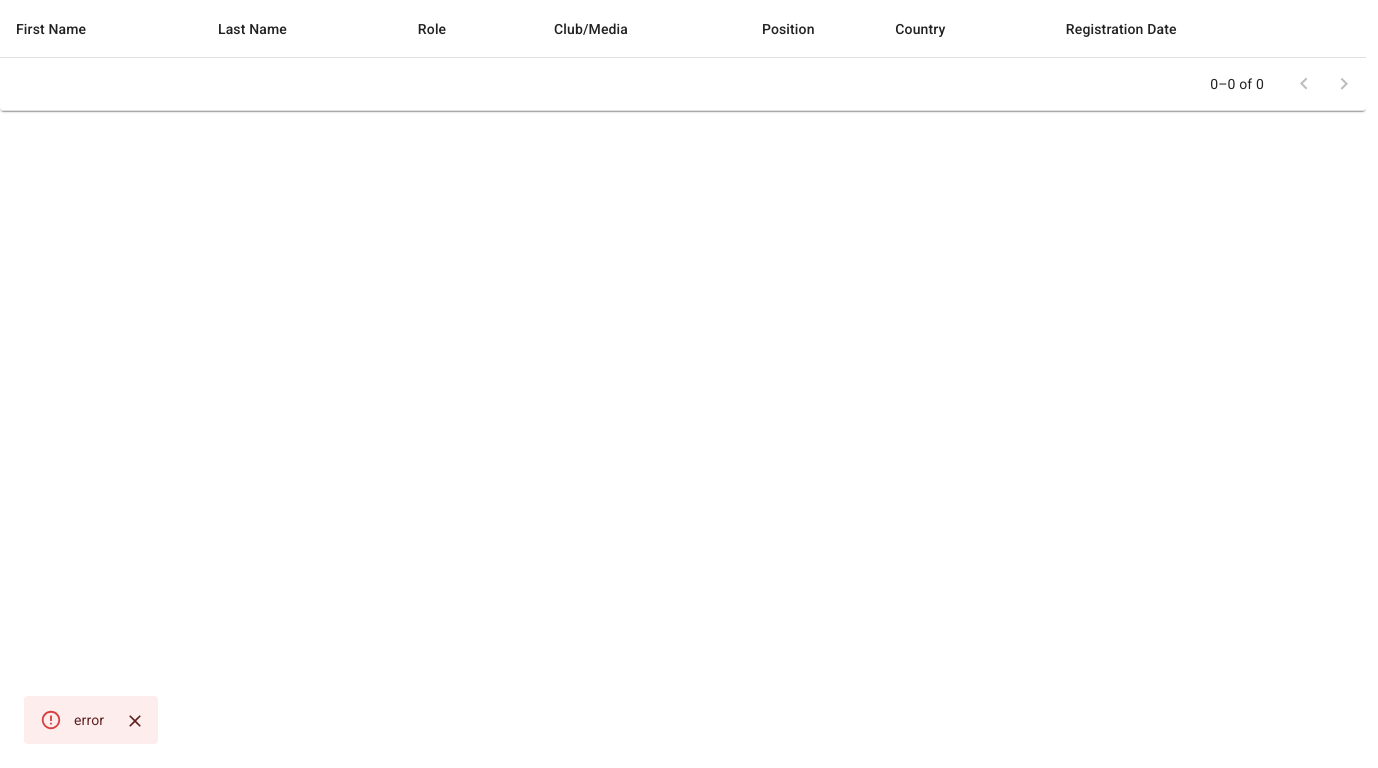
Scenario: UsersTable tests: error response › should close the error snackbar after clicking on the close button
Click the button with test id "CloseIcon": coordinates (135, 721) [120,706,150,736]
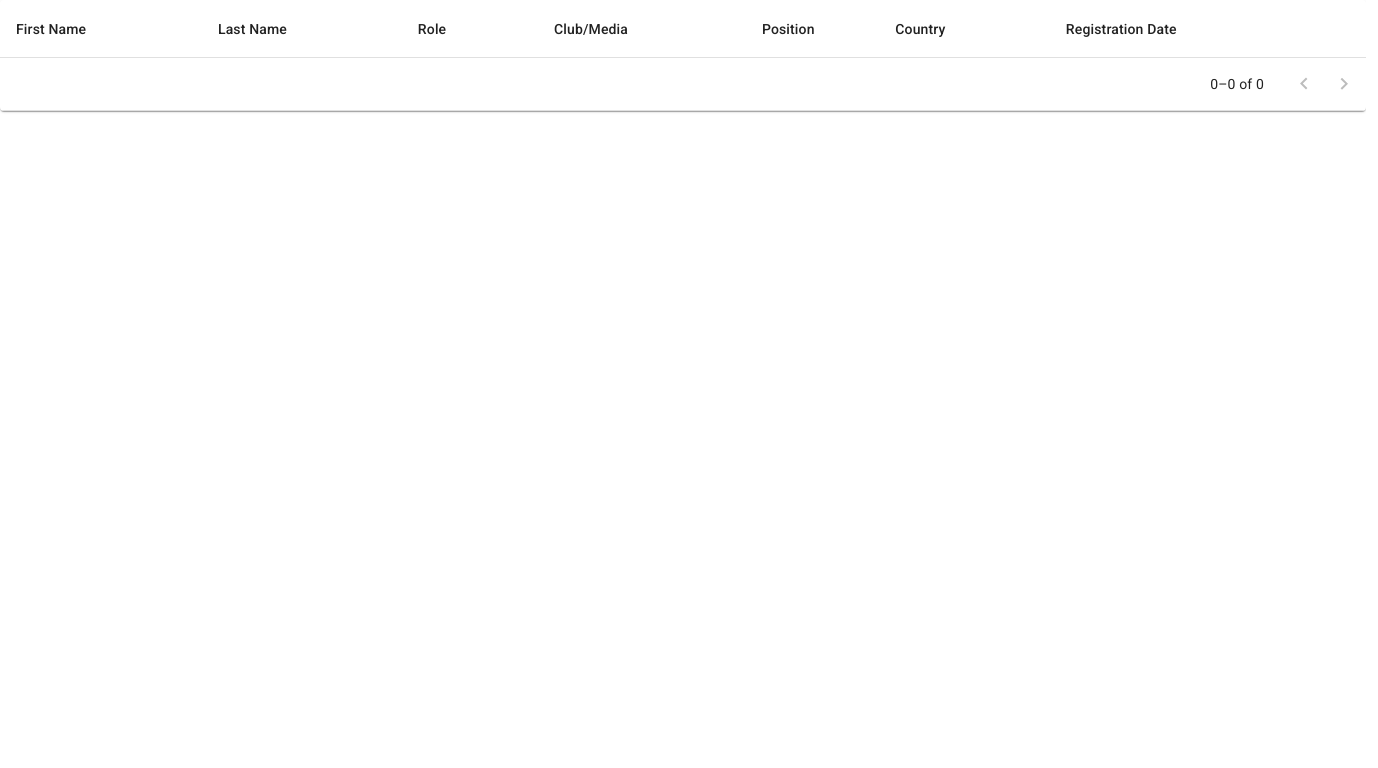
Now the message "error" is gone
